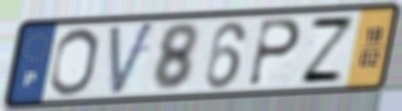6: (202, 18, 250, 92)
8: (151, 20, 200, 95)
O: (47, 25, 101, 98)
P: (245, 17, 304, 89)
V: (107, 19, 158, 99)
Z: (296, 16, 358, 85)
